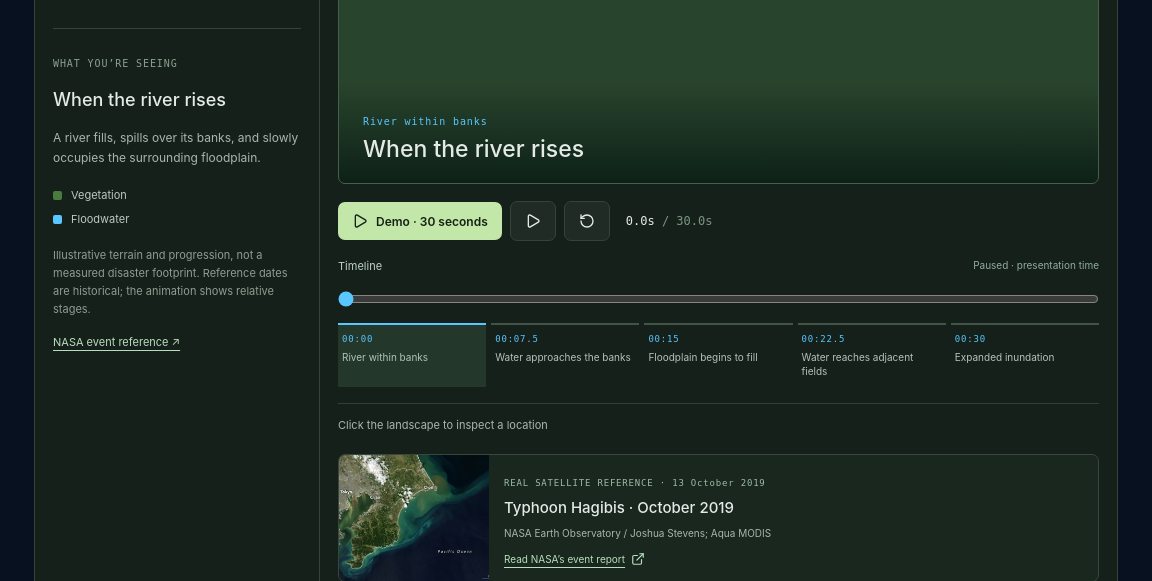
it: runs a selected event for 30 seconds, pauses, resumes, and restarts from zero
Later steps or results of the test are not shown.
(page scrolled)
Click the button "Demo · 30 seconds": x=420, y=221 [338,202,502,240]
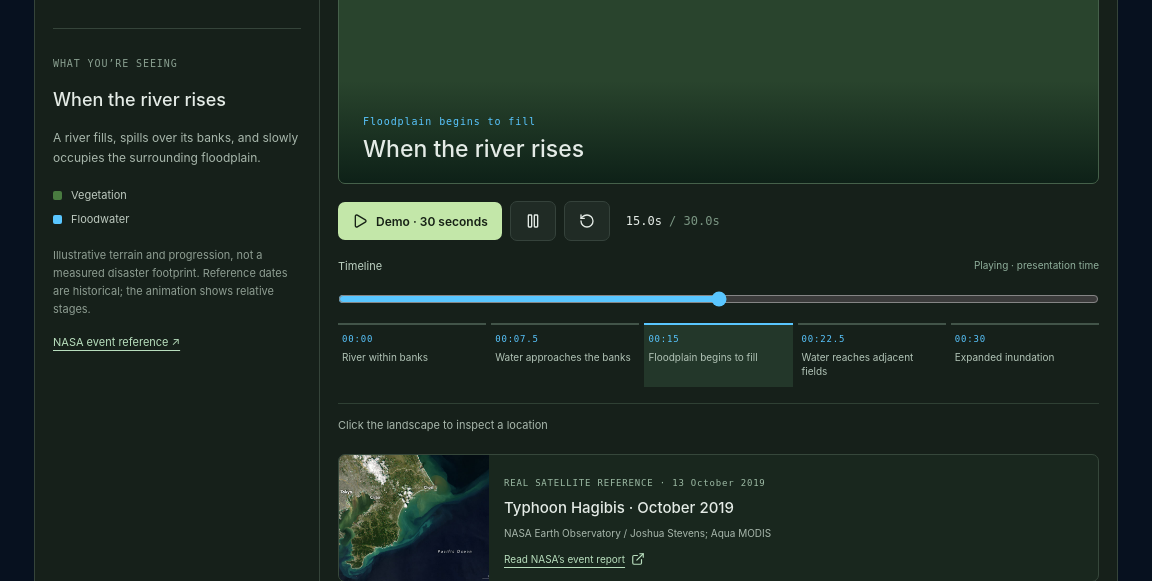
Now the element with test id "playback-time" shows "15.0s", box [626,214,720,228]
Click the button named "Pause demo": x=533, y=221 [510,201,556,241]
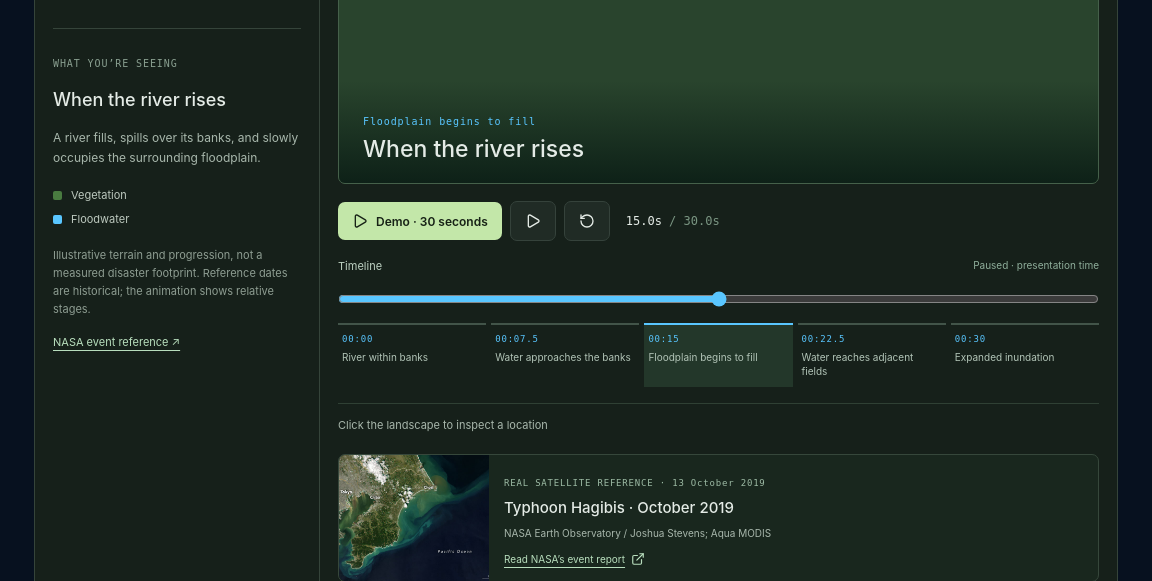
Now the element with test id "playback-time" shows "15.0s", box [626,214,720,228]
Click the button named "Resume demo": x=533, y=221 [510,201,556,241]
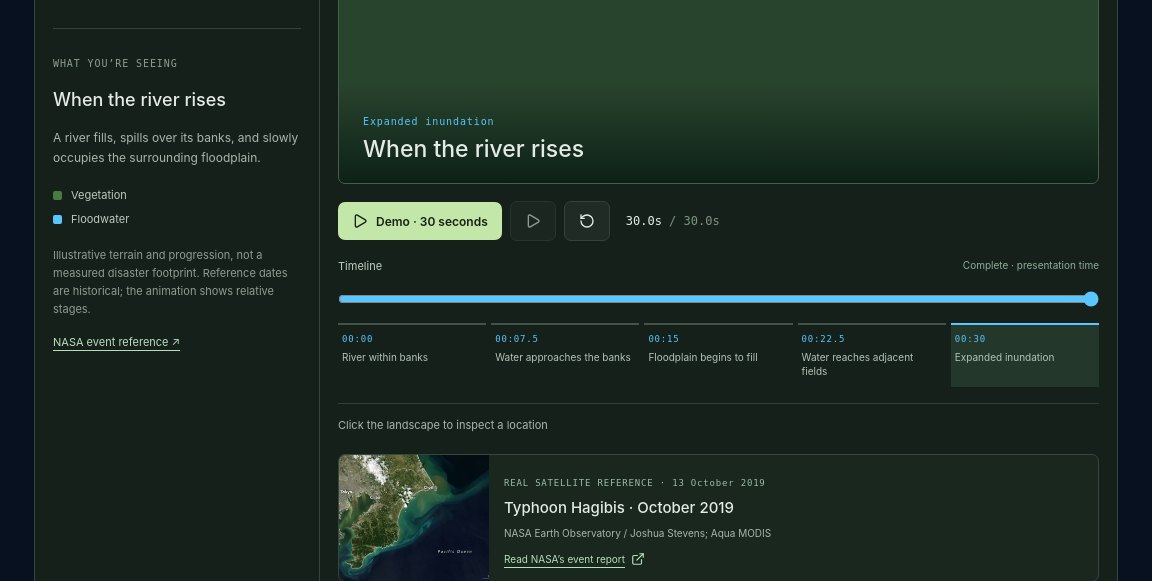
Expected: the element with test id "playback-time" shows "30.0s", [669,214,720,228]
Now the button named "Resume demo" is disabled, box [510,201,556,241]
